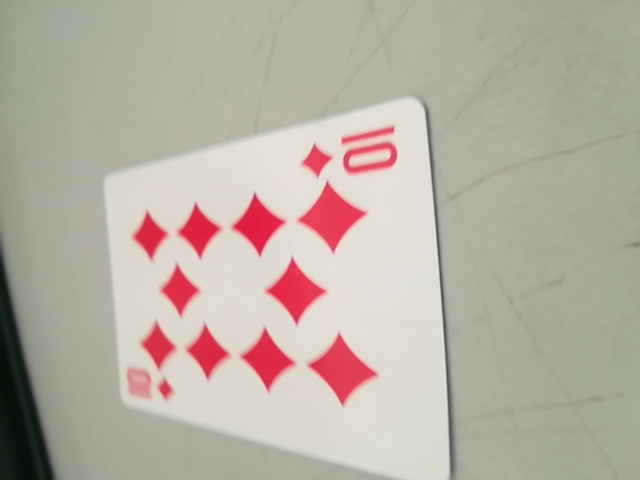fk 10: (304, 120, 413, 187), (121, 359, 181, 412)
